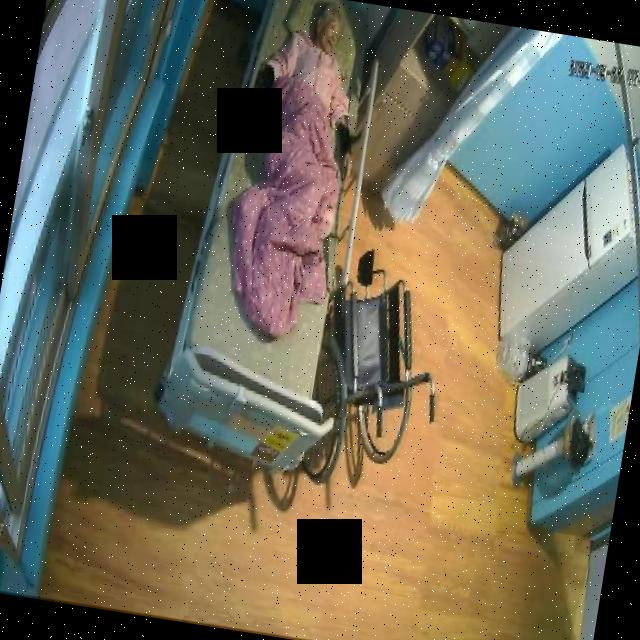bed: (155, 0, 388, 476)
lie: (215, 0, 375, 348)
patient: (245, 0, 373, 157)
